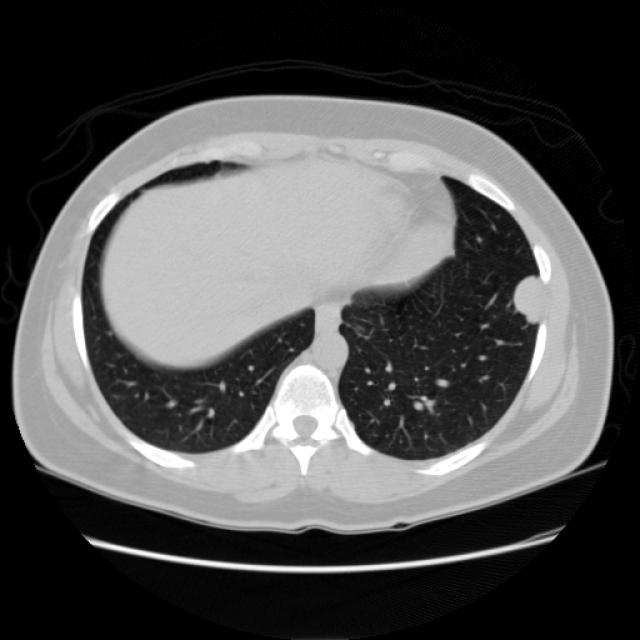nodule: (488, 259, 568, 339)
